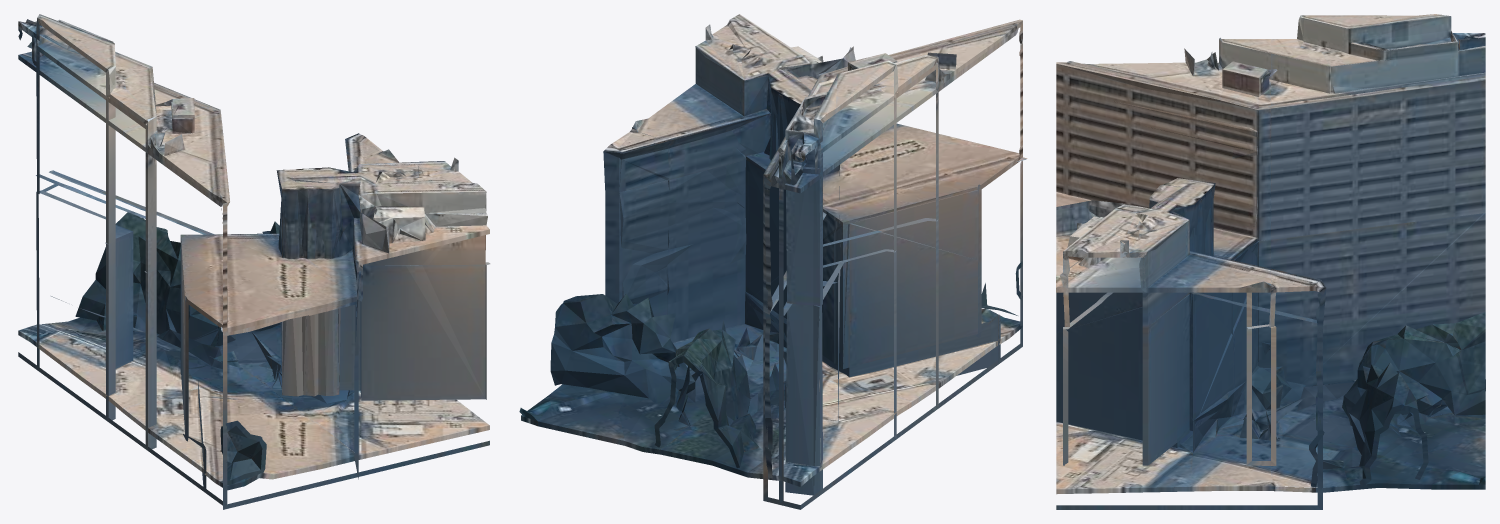
Rendered from chunk_-4_5.glb.
The picture shows the model from 3 angles, left to right: view 1: azimuth 30°, elevation 25°; view 2: azimuth 150°, elevation 25°; view 3: azimuth 270°, elevation 25°; orthographic projection. The views are drawn at different scales.
Parts seen in each view (by area): view 1: hero-chunk; view 2: hero-chunk; view 3: hero-chunk.
Part boxes in pixels (x1,y1,x2,y2): hero-chunk: (18, 14, 490, 509); hero-chunk: (519, 14, 1027, 509); hero-chunk: (1056, 14, 1485, 509).
Size of the model in its own units: 57.27 by 71.96 by 76.33.
Materials: 4 (4 with a texture image).
